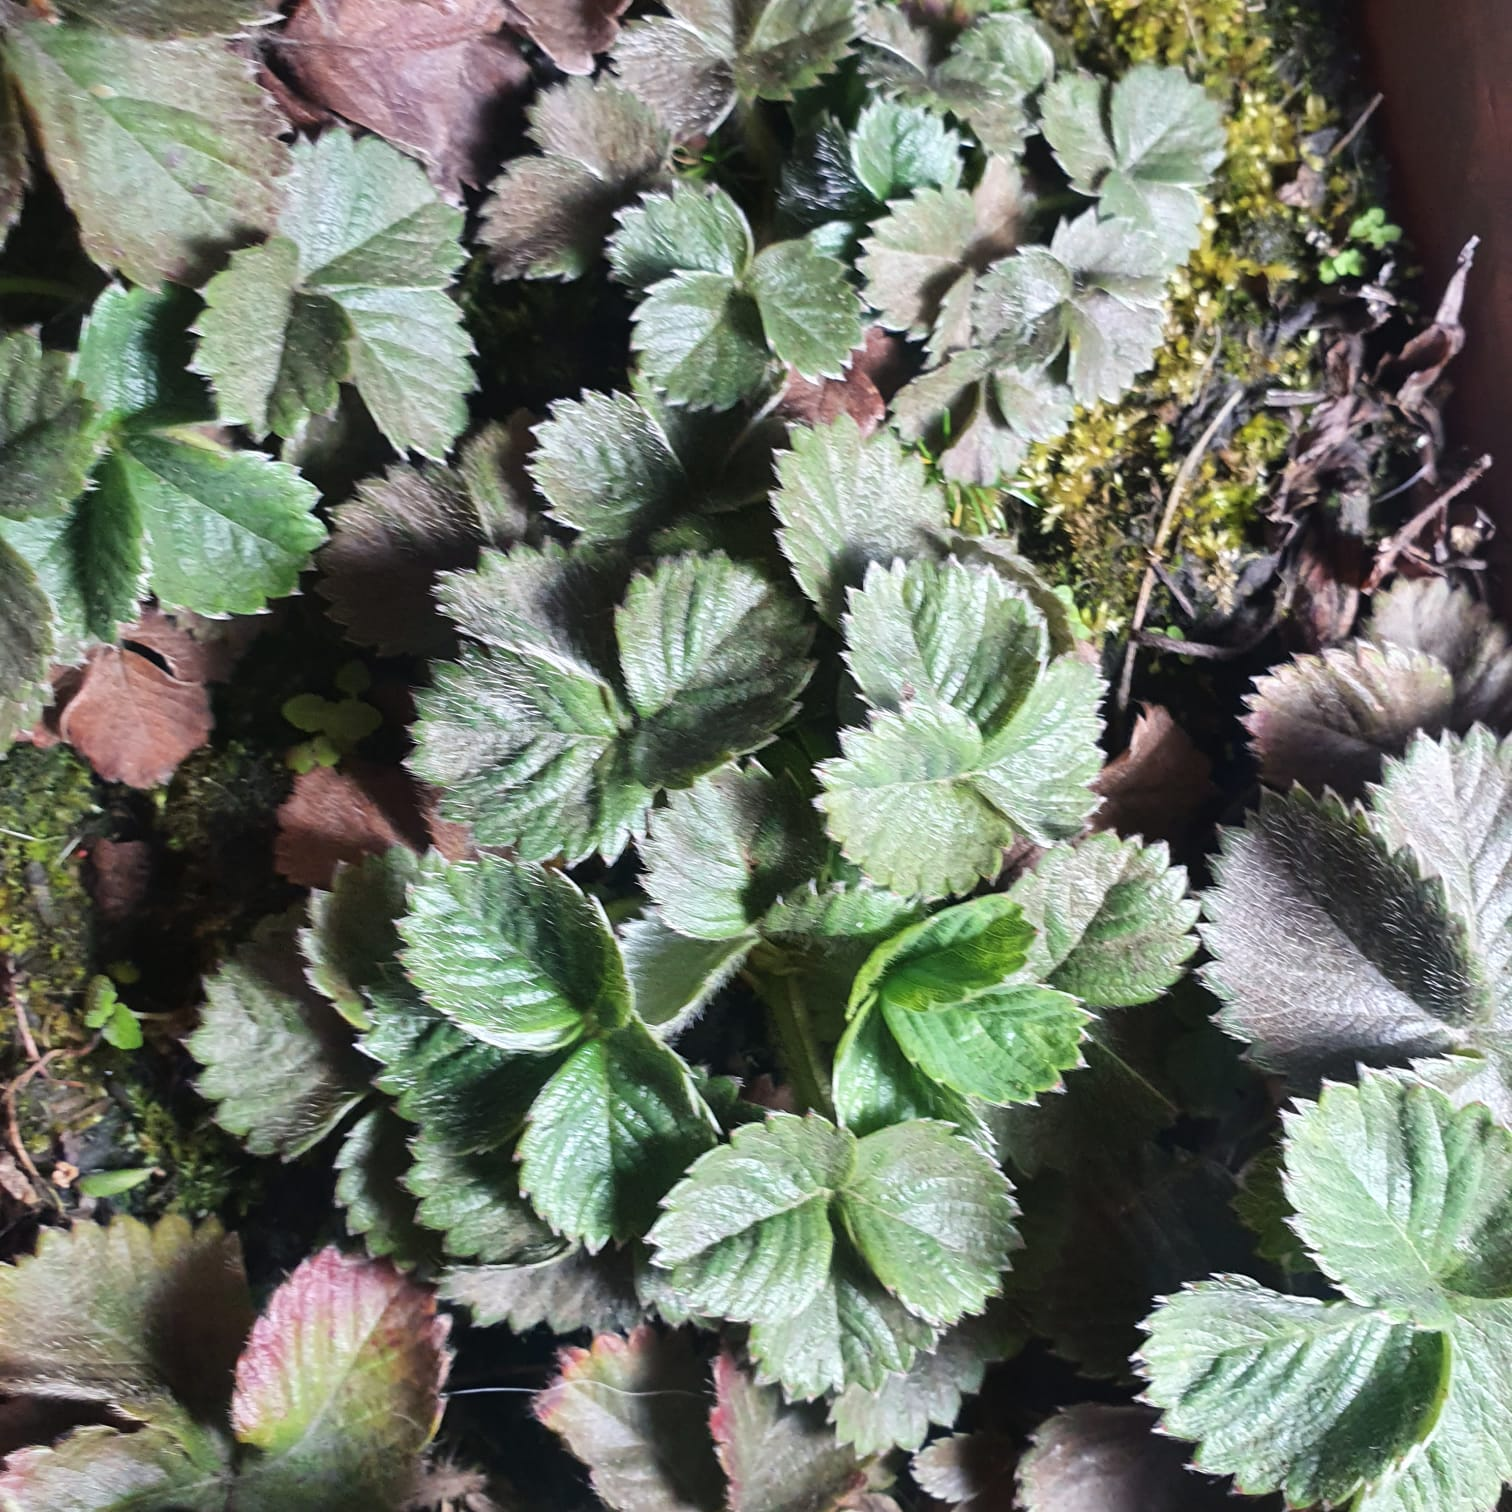sano: (330, 804, 1098, 1324)
